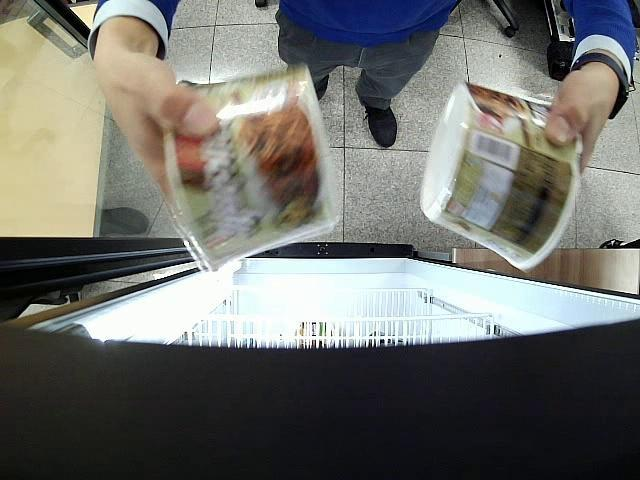03_chapagetti_L: (166, 62, 342, 274), (418, 81, 580, 270)
